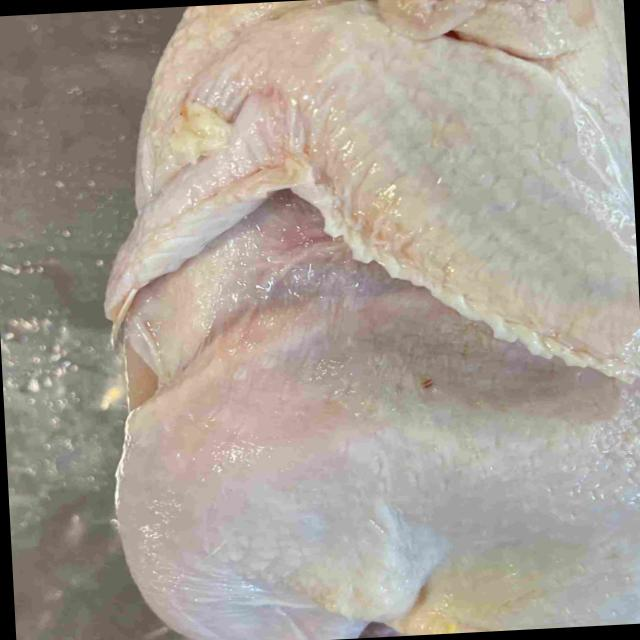leg: (118, 315, 444, 640)
neck: (393, 0, 589, 50)
wing: (105, 0, 640, 378)
